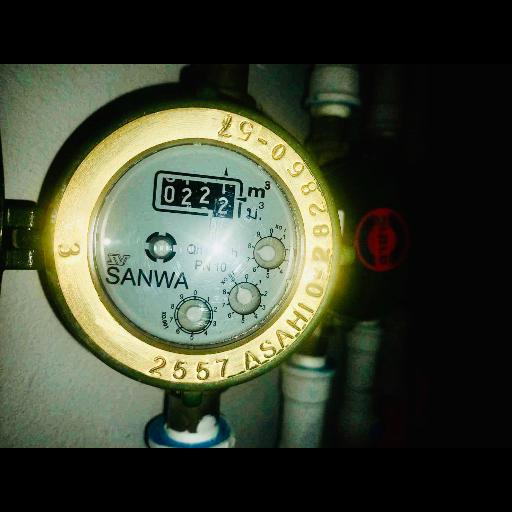0: (160, 177, 182, 207)
2: (213, 183, 236, 219), (179, 180, 200, 209), (196, 180, 216, 210)
border_water_meter_number: (150, 170, 244, 221)
